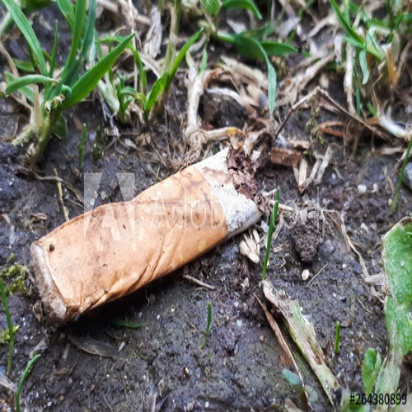cigarette: (29, 144, 260, 320)
